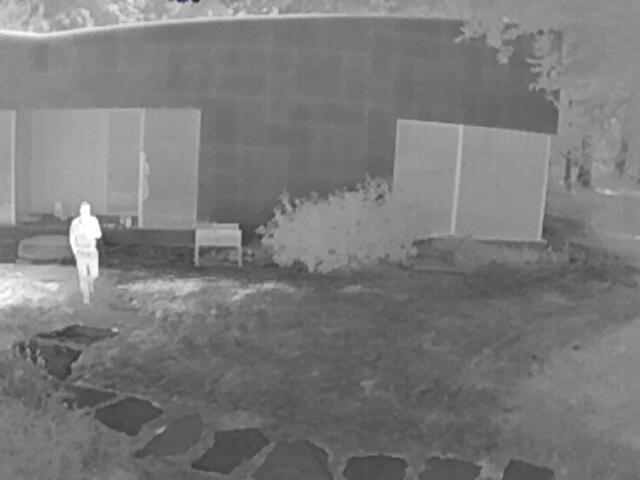person: (69, 200, 102, 303)
